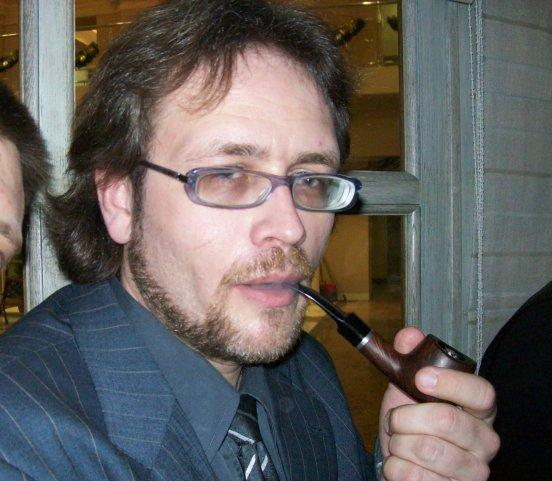trubka: (279, 282, 478, 405)
